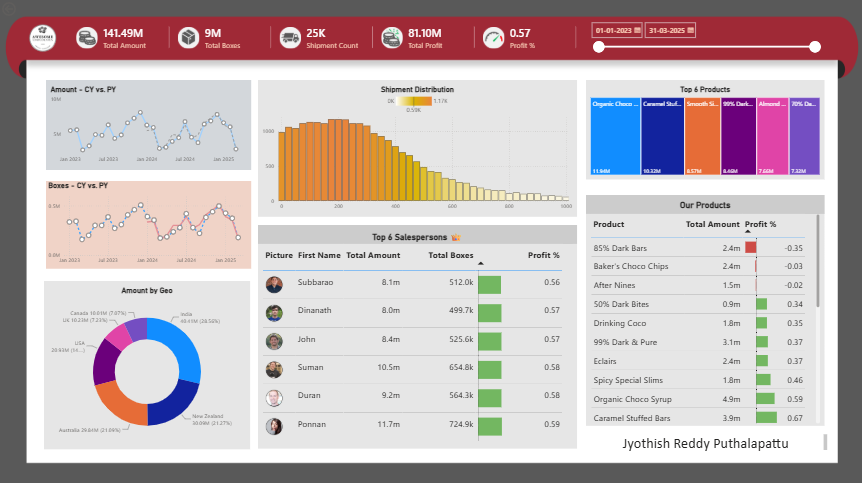

This screenshot's page, from the dashboard's own definition file:
{"tool":"powerbi","page":{"name":"BI Report","canvas":[1920,1080],"ordinal":0},"visuals":[{"type":"textbox","box":[1302.4,961,541.5,53.7],"z":0},{"type":"lineChart","title":"Amount - CY vs. PY","fields":{"Y":["shipments.Total Amount","shipments.Total Amount (last year)"],"Category":["calendar.Start of Month"]},"box":[102.4,178,456.1,200],"z":1000},{"type":"actionButton","box":[0,0,100,40],"z":2000},{"type":"lineChart","title":"Boxes - CY vs. PY","fields":{"Category":["calendar.Start of Month"],"Y":["shipments.Total Boxes","shipments.Total Boxes (last year)"]},"box":[102.4,402.4,456.1,195.1],"z":3000},{"type":"donutChart","title":"Amount by Geo","fields":{"Y":["shipments.Total Amount"],"Category":["locations.Geo"]},"box":[98.4,623.5,457.8,374.1],"z":4000},{"type":"tableEx","title":"Top 6 Salespersons 👑","fields":{"Values":["people.Picture","people.First Name","shipments.Total Amount","shipments.Total Boxes","shipments.Profit %"]},"box":[574.3,500.4,708.8,497.2],"z":5000},{"type":"treemap","title":"Top 6 Products","fields":{"Values":["shipments.Total Amount"],"Group":["products.Product"]},"box":[1302.2,177.8,530.2,221.4],"z":6000},{"type":"tableEx","title":"Our Products","fields":{"Values":["products.Product","shipments.Total Amount","shipments.Profit %"]},"box":[1302.2,433.5,530.2,513.1],"z":7000},{"type":"clusteredColumnChart","title":"Shipment Distribution","fields":{"Y":["shipments.Shipment Count"],"Category":["shipments.Boxes (bins)"]},"box":[574.3,177.2,708.8,303.5],"z":8000},{"type":"cardVisual","fields":{"Data":["shipments.Total Amount","shipments.Total Boxes","shipments.Shipment Count","shipments.Total Profit","shipments.Profit %"]},"box":[142.5,40,1160,85],"z":9000},{"type":"slicer","fields":{"Values":["calendar.cal_date"]},"box":[1302.5,40,530,85],"z":9001}]}

Visuals, with their boxes on the page's 1920x1080 design canvas (x1, y1, x2, y2). These are canvas units, not pixel positions in the 862x483 screenshot, which may show the page scaled, cropped or inside an application window:
textbox: 1302:961:1844:1015
"Amount - CY vs. PY" lineChart: 102:178:558:378
actionButton: 0:0:100:40
"Boxes - CY vs. PY" lineChart: 102:402:558:598
"Amount by Geo" donutChart: 98:624:556:998
"Top 6 Salespersons 👑" tableEx: 574:500:1283:998
"Top 6 Products" treemap: 1302:178:1832:399
"Our Products" tableEx: 1302:434:1832:947
"Shipment Distribution" clusteredColumnChart: 574:177:1283:481
cardVisual - shipments.Total Amount x shipments.Total Boxes: 142:40:1302:125
slicer - calendar.cal_date: 1302:40:1832:125
